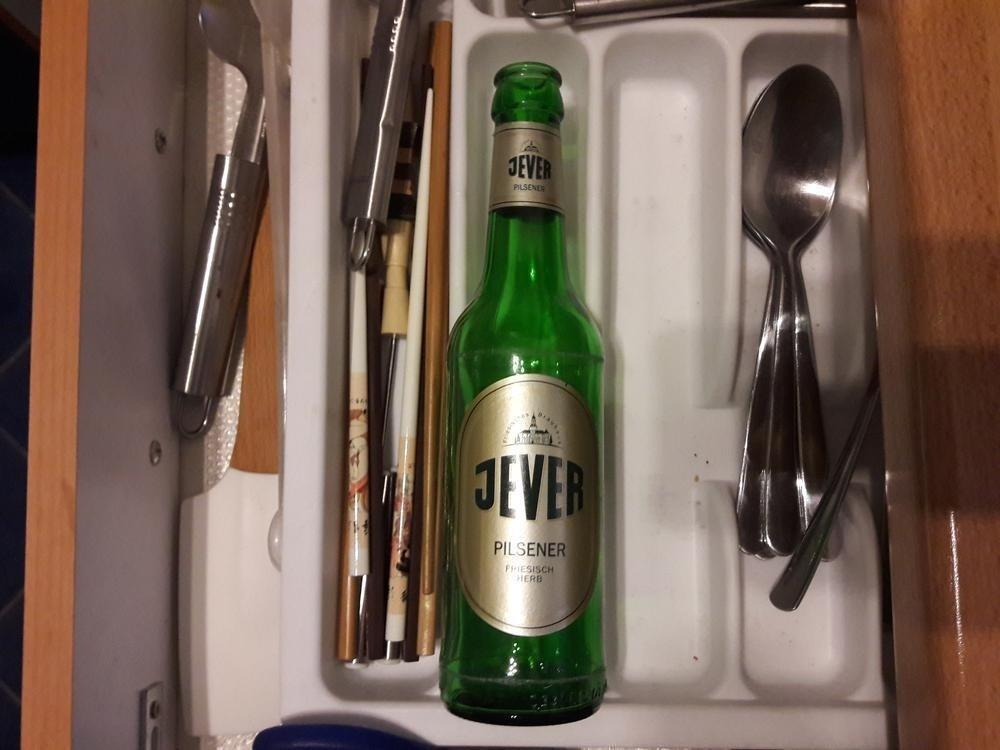bottle-glass: (437, 59, 609, 726)
